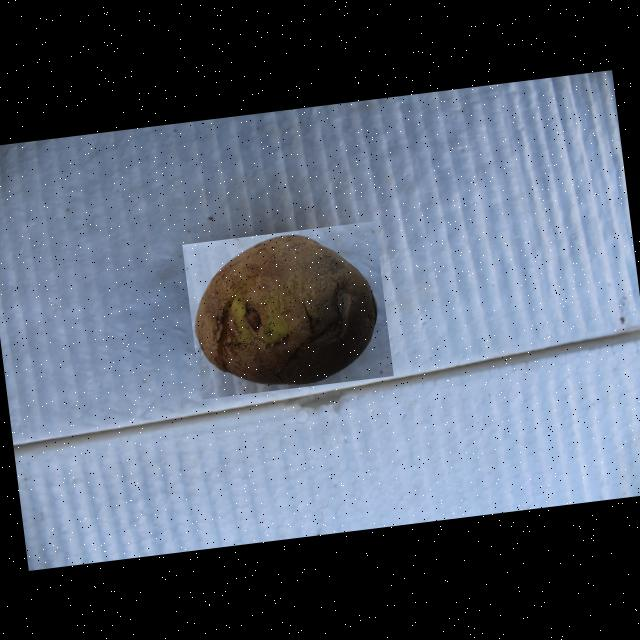Diseased-fungal potato: (182, 221, 394, 399)
